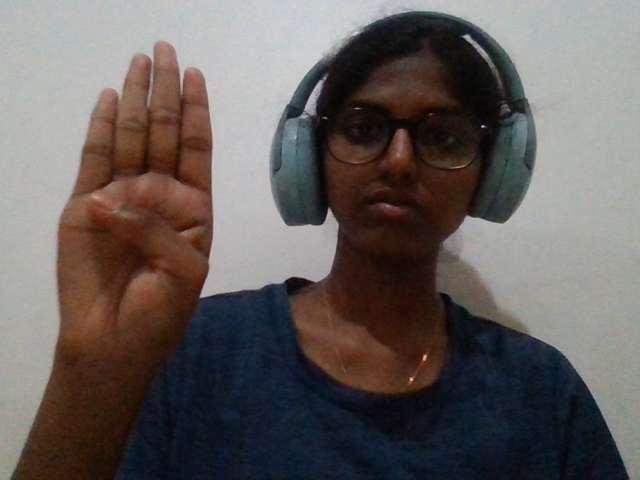B: (23, 30, 253, 438)
